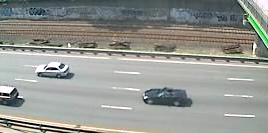car: (141, 85, 192, 109), (32, 59, 74, 83)
